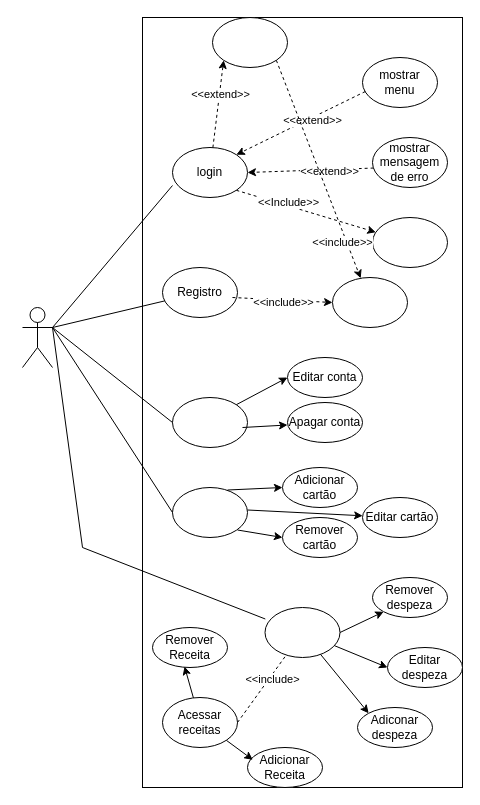
This 480x805 diagram has some shape labels left out. The box of each missing label's shape, as (x1, y1, x2, y2) in pixels:
Acessar cartões: (172, 486, 248, 538)
Acessar despezas: (264, 606, 340, 658)
Cadastrar senha: (332, 276, 408, 328)
Gerenciar conta: (172, 396, 248, 448)
recuperar senha: (212, 16, 288, 68)
Usuário: (22, 306, 52, 368)
verificar senha: (372, 216, 448, 268)
